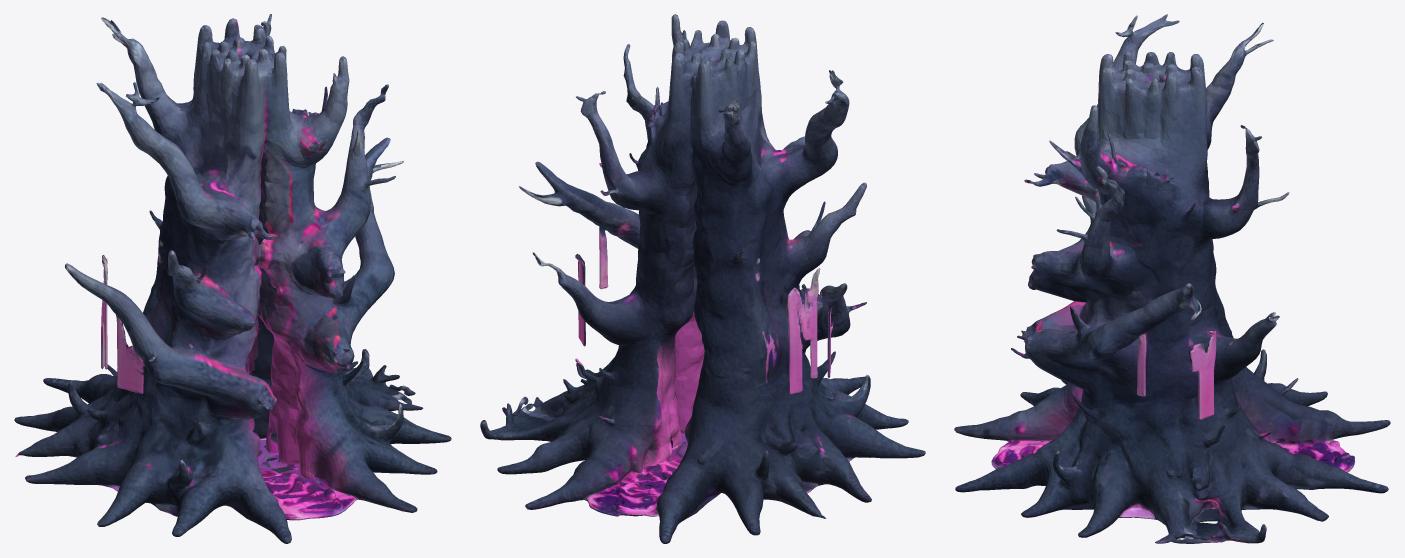
Rendered from root-north-generated-2026-04-19T16-59-20-463Z.glb.
3 renders of one model, left to right at view 1: azimuth 30°, elevation 25°; view 2: azimuth 150°, elevation 25°; view 3: azimuth 270°, elevation 25°, orthographic. The views are drawn at different scales.
Visible parts, largest first — view 1: temp_mesh.ply; view 2: temp_mesh.ply; view 3: temp_mesh.ply.
Boxes of the visible parts, left/top/right/bottom form: temp_mesh.ply: left=14, top=14, right=451, bottom=543; temp_mesh.ply: left=480, top=14, right=925, bottom=543; temp_mesh.ply: left=954, top=14, right=1390, bottom=543.
Bounding box in the file's own units: 1.87 × 1.98 × 1.95.
Materials: 1 (1 with a texture image).
